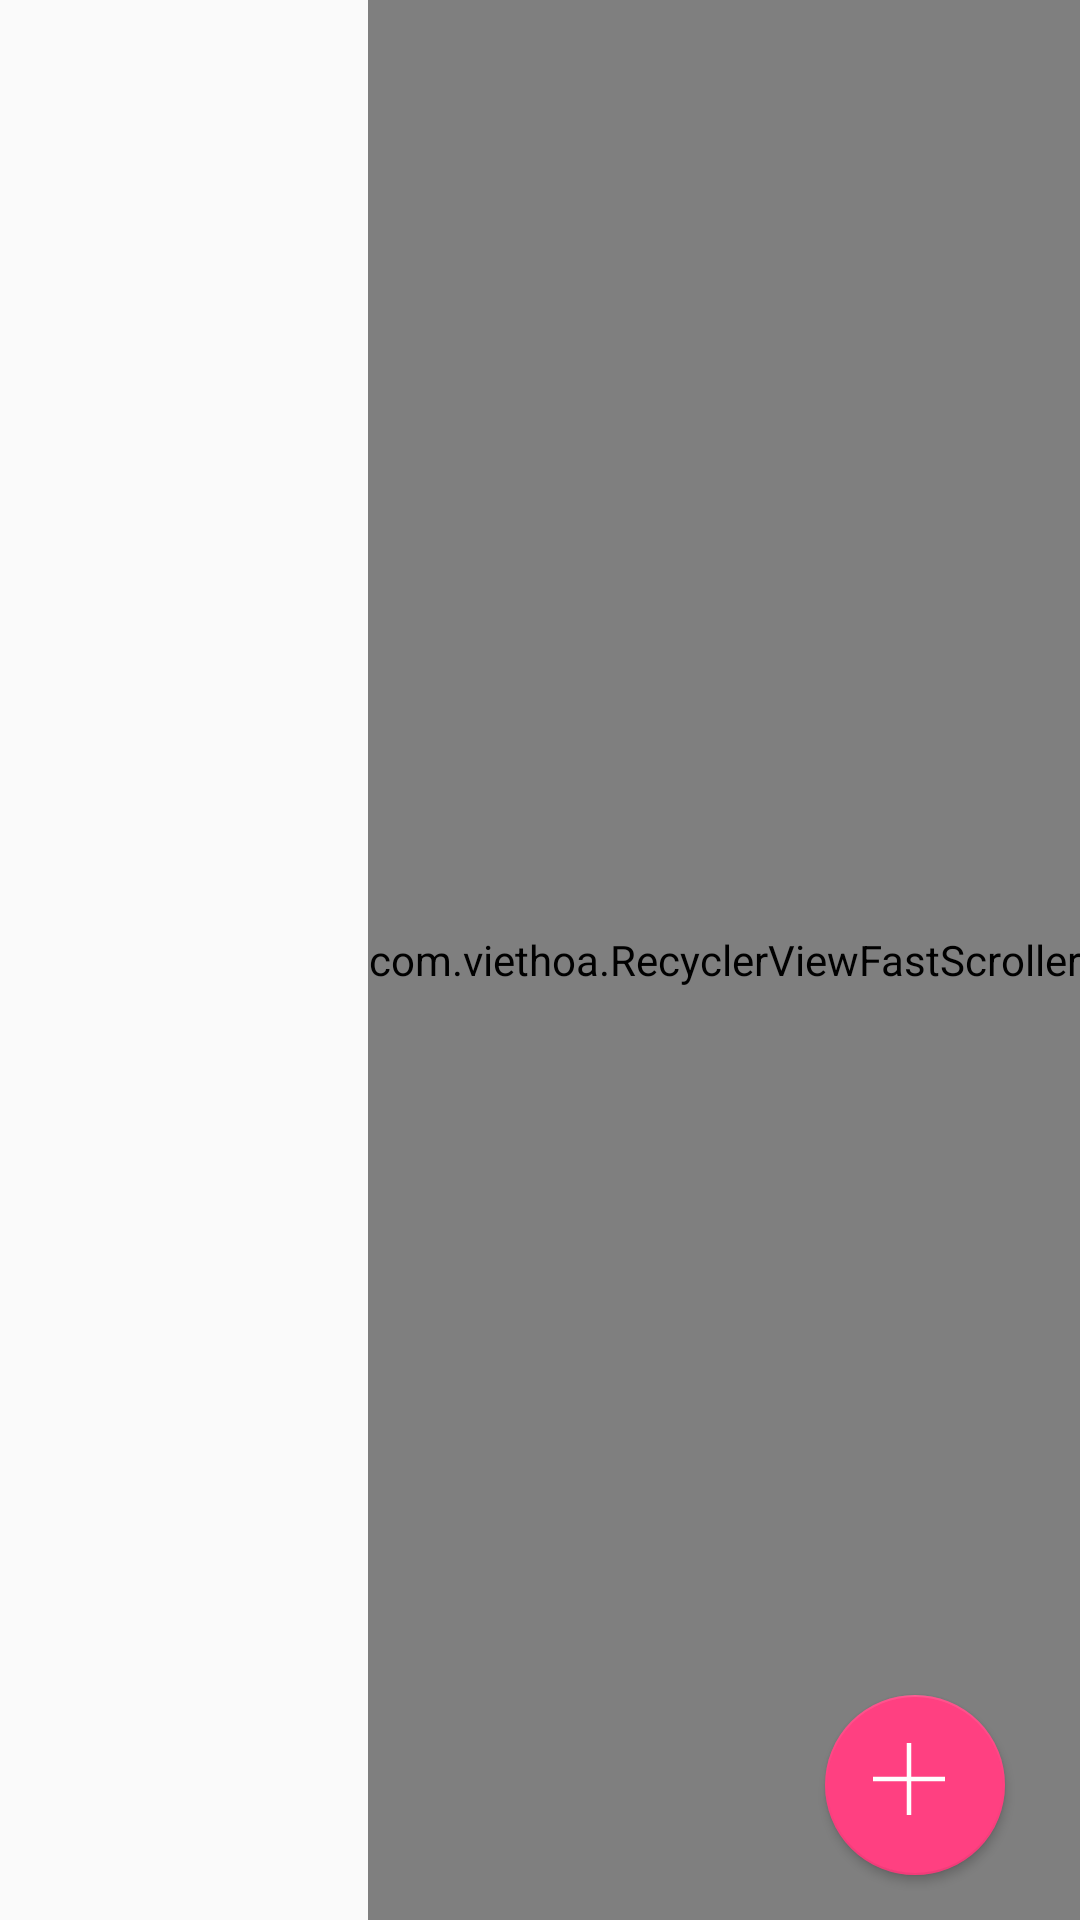

Icon click points for this 1080w x 1920h phone screenshot, format point (x, y):
plus: point (915, 1785)
